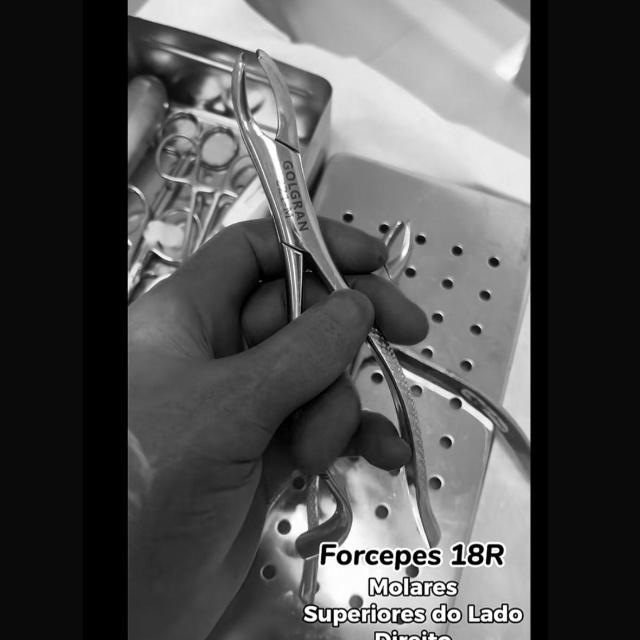forceps: (235, 54, 350, 321), (368, 334, 428, 542), (296, 477, 350, 560)
